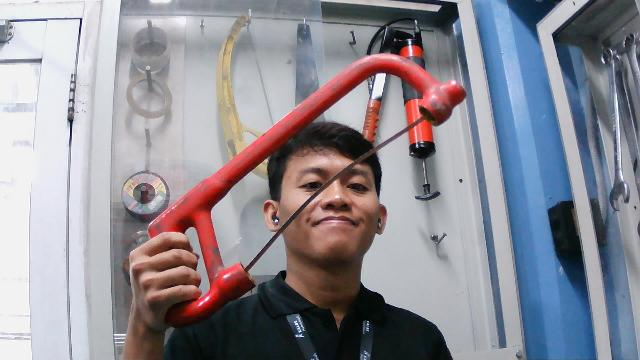gergaji_besi: (135, 50, 468, 333)
